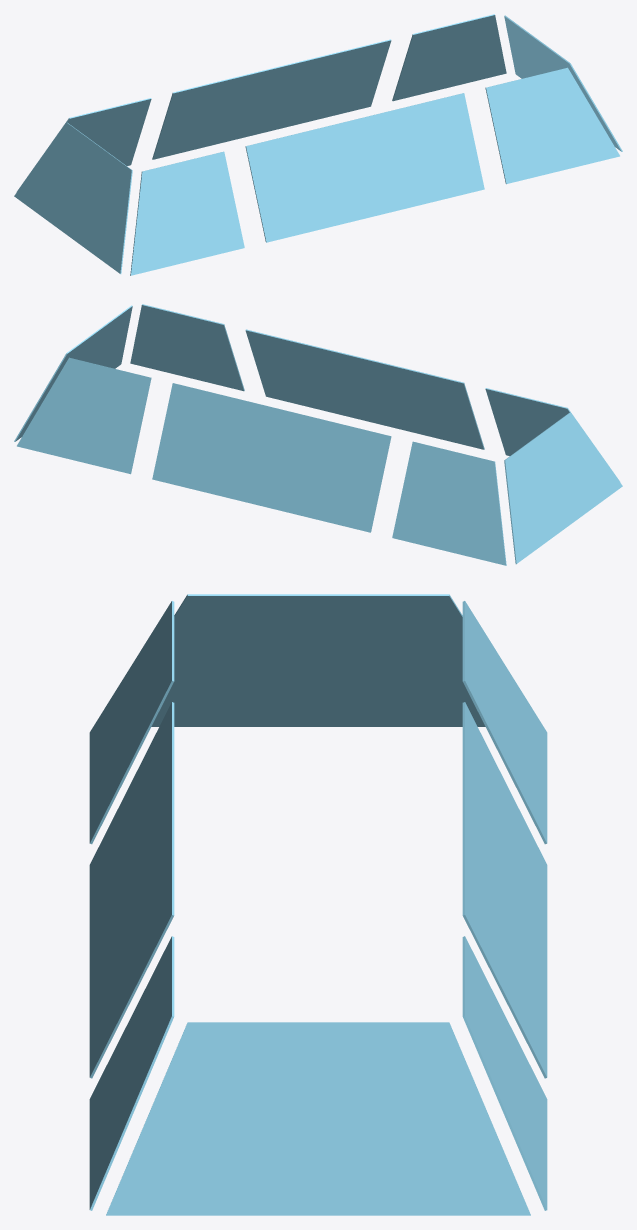
File: Windows.glb
3 renders of one model, top to bottom at view 1: azimuth 30°, elevation 25°; view 2: azimuth 150°, elevation 25°; view 3: azimuth 270°, elevation 25°, orthographic. The views are drawn at different scales.
Visible parts, largest first — view 1: Cube.013; view 2: Cube.013; view 3: Cube.013.
Part boxes in pixels (bbox=[...]): Cube.013: bbox=[14, 14, 622, 275]; Cube.013: bbox=[14, 304, 622, 565]; Cube.013: bbox=[89, 594, 547, 1215].
Bounding box in the file's own units: 0.1495 × 0.0233 × 0.0589.
Materials: 1 (1 with a texture image).
